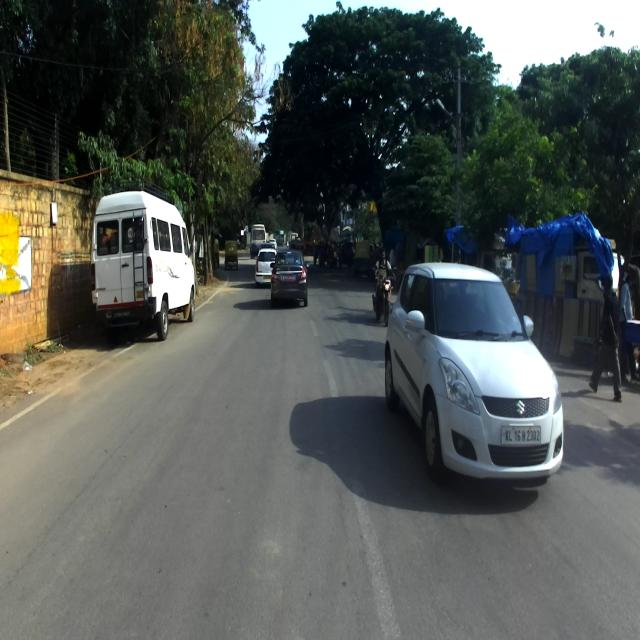bus ahead at: (89, 193, 198, 344)
car ahead at: (392, 261, 568, 498), (270, 253, 308, 304)
